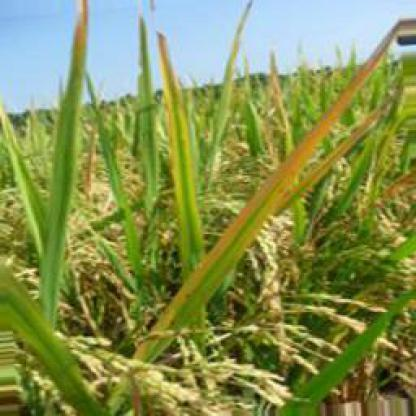Tungro: (170, 40, 386, 331), (149, 22, 201, 263), (71, 3, 96, 73)
